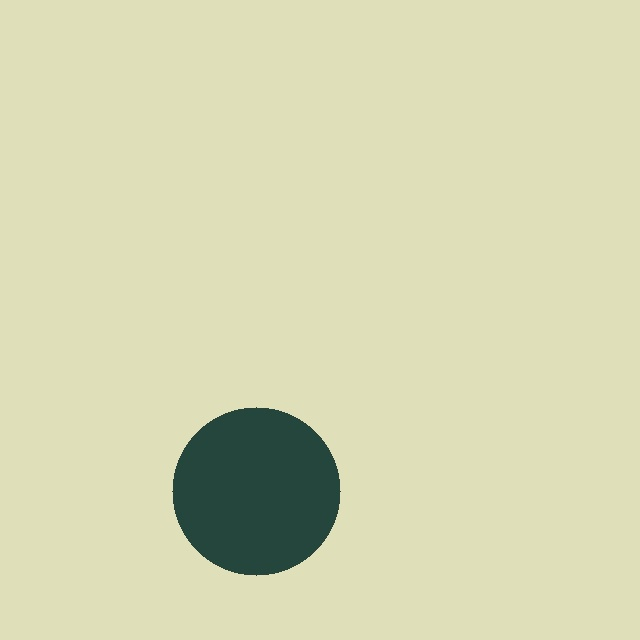circle: (172, 407, 340, 576)
